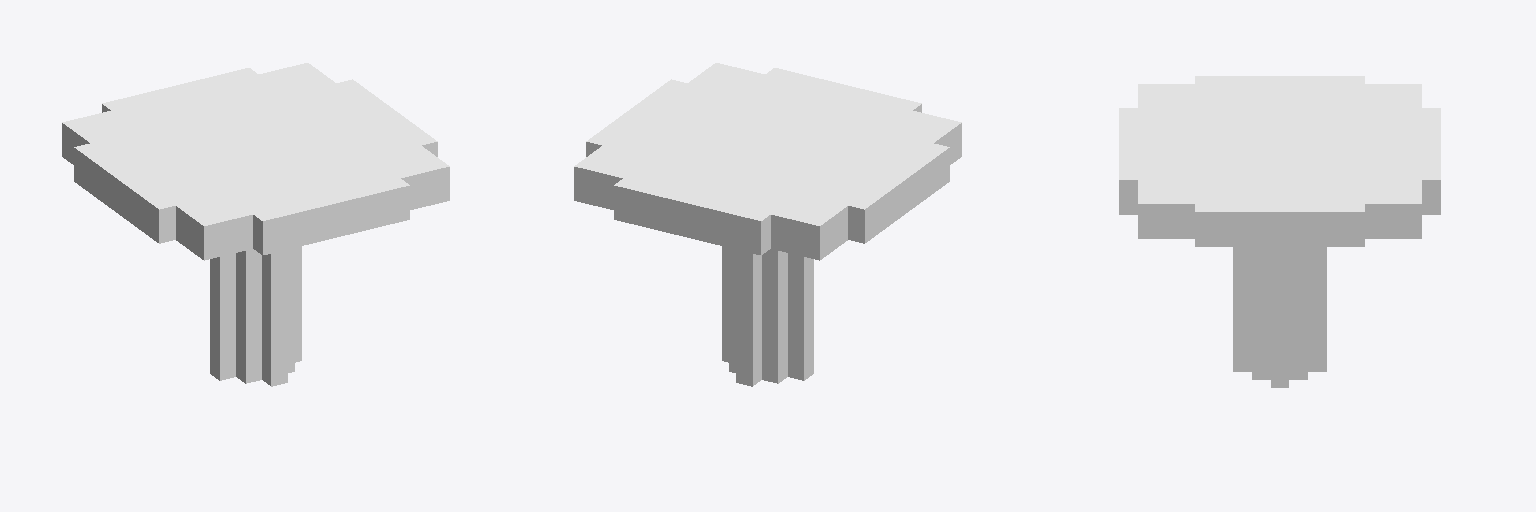
File: CCTVBODY.obj
3 renders of one model, left to right at view 1: azimuth 30°, elevation 25°; view 2: azimuth 150°, elevation 25°; view 3: azimuth 270°, elevation 25°, orthographic.
Parts seen in each view (by area): view 1: object 1; view 2: object 1; view 3: object 1.
Boxes of the visible parts, box(x1,y1,x2,y2) form: object 1: box(62, 63, 449, 386); object 1: box(574, 63, 961, 386); object 1: box(1119, 76, 1440, 387).
Bounding box in the file's own units: 1.7 × 1.3 × 1.7.